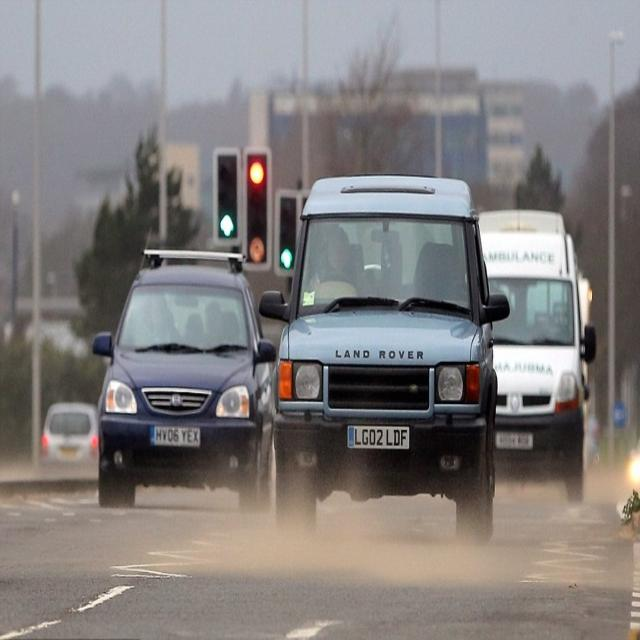car: (264, 176, 510, 545), (95, 252, 275, 491), (479, 211, 589, 506), (40, 404, 96, 465)
